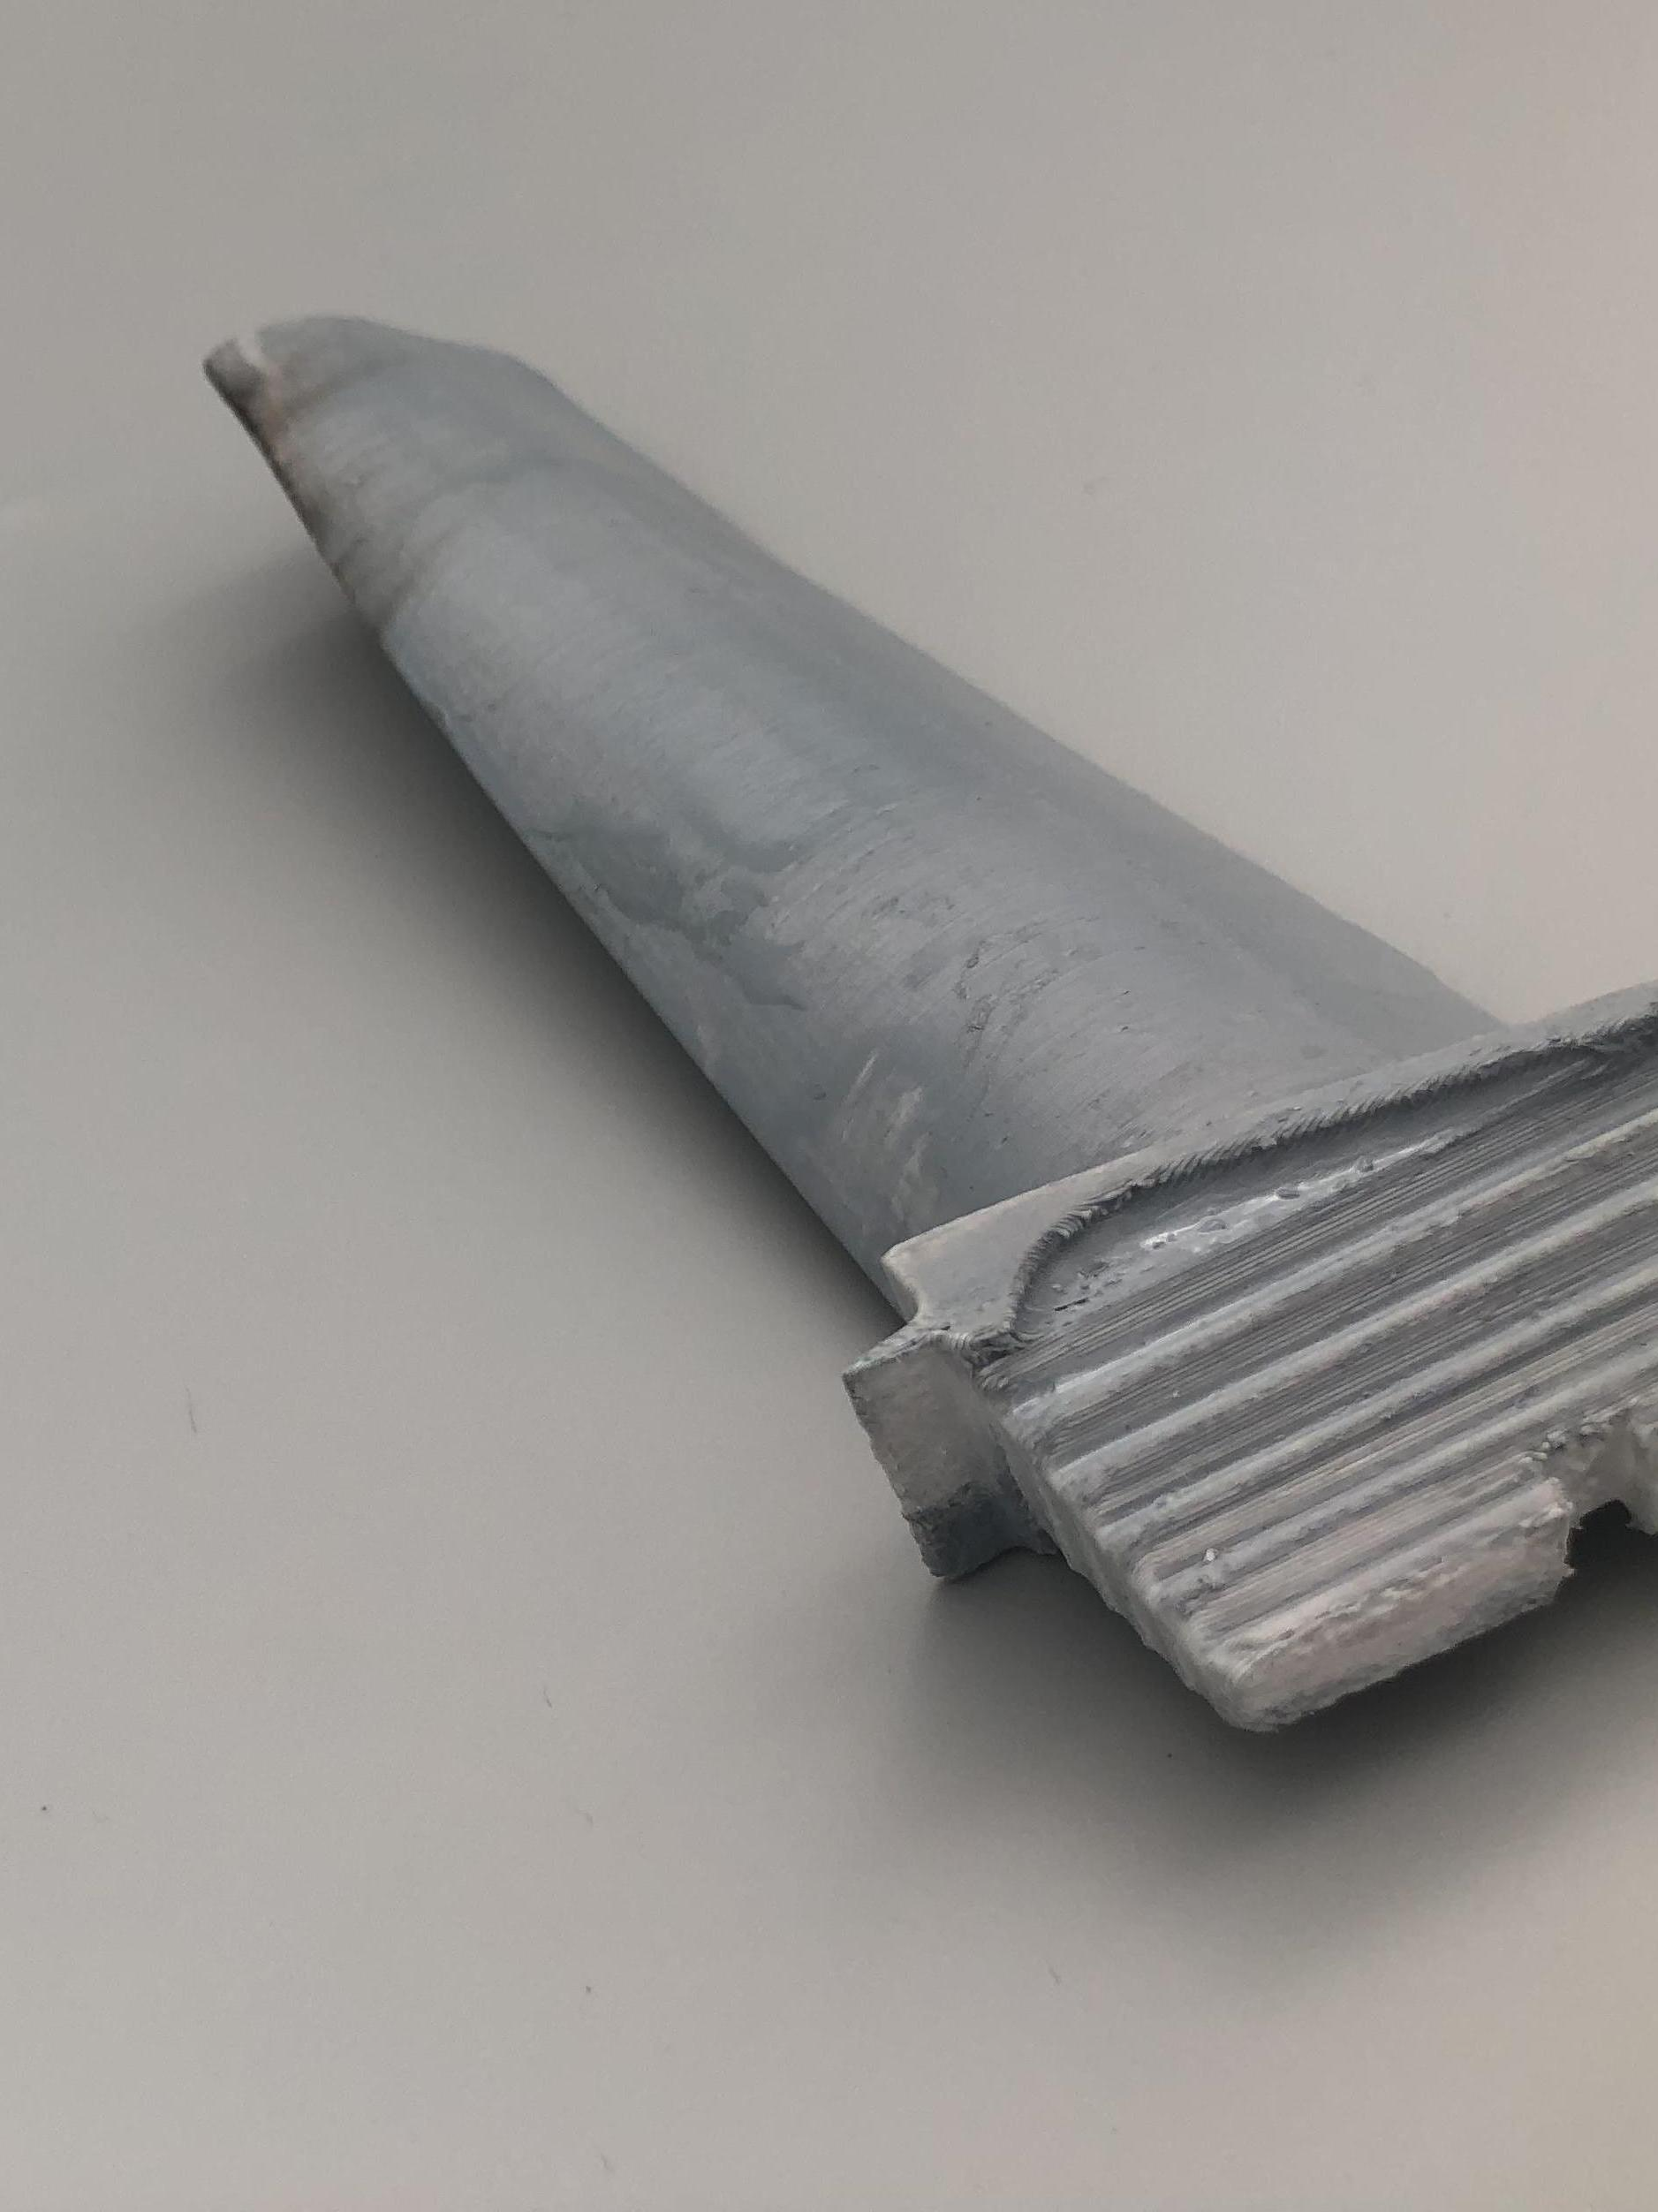ablation: (188, 331, 367, 575)
